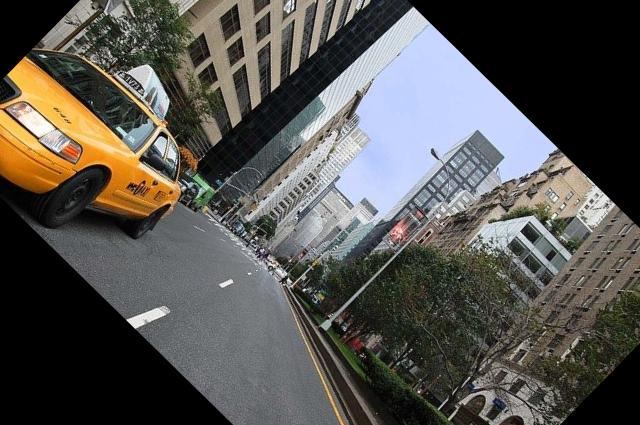taxi: (1, 64, 189, 218)
